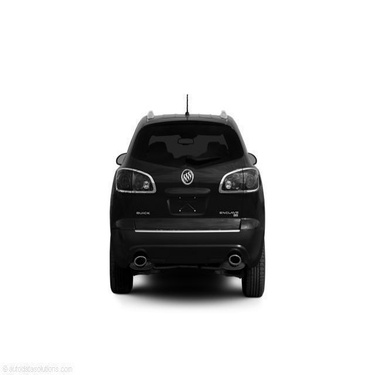car: (99, 95, 271, 303)
